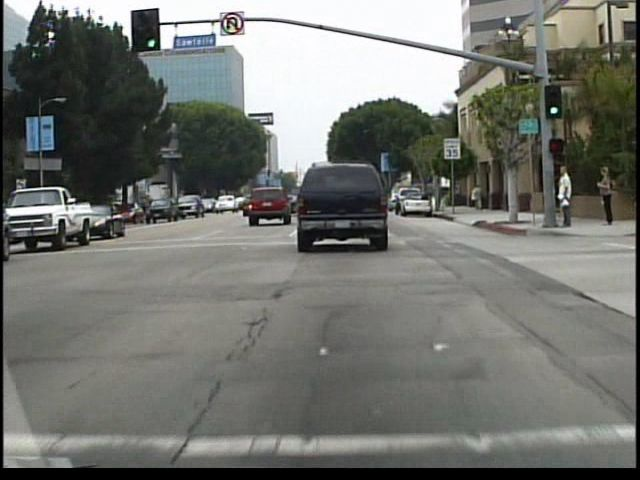person: (550, 161, 575, 236), (596, 163, 616, 227), (469, 181, 485, 217), (426, 185, 439, 214)
